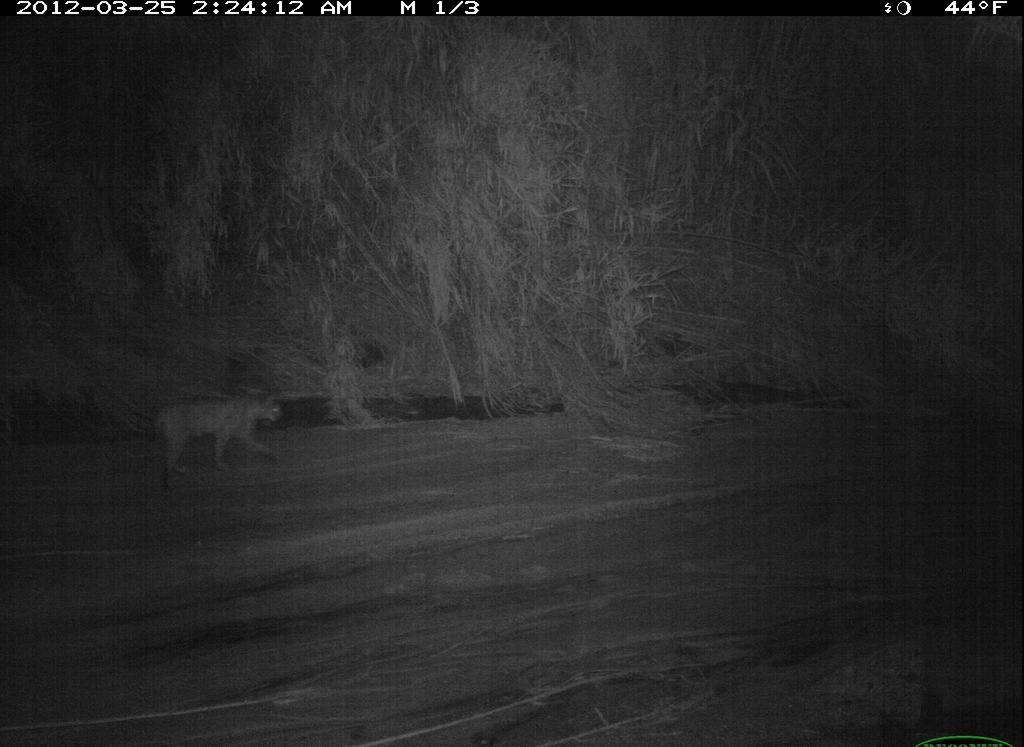bobcat: (143, 386, 294, 495)
